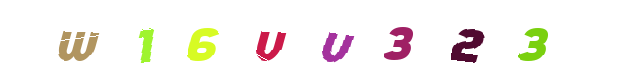1: (150, 0, 230, 80)
2: (427, 0, 507, 80)
3: (303, 0, 383, 80), (495, 0, 575, 80)
6: (239, 0, 319, 80)
U: (270, 0, 350, 80), (299, 0, 379, 80)
W: (52, 0, 132, 80)
